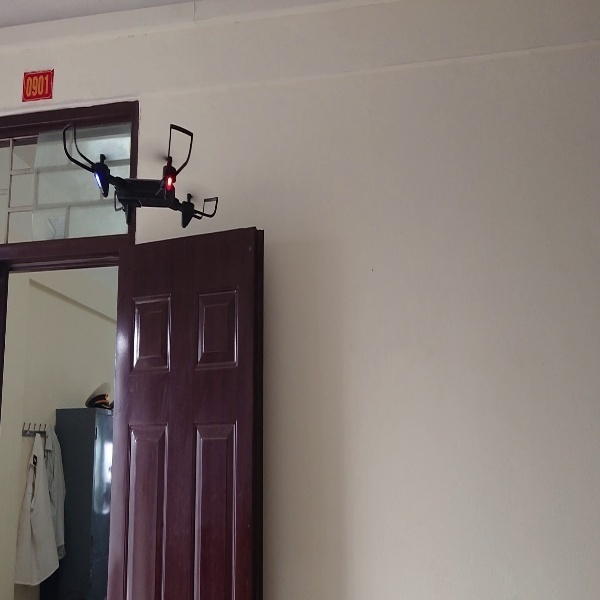drone: (60, 118, 219, 229)
